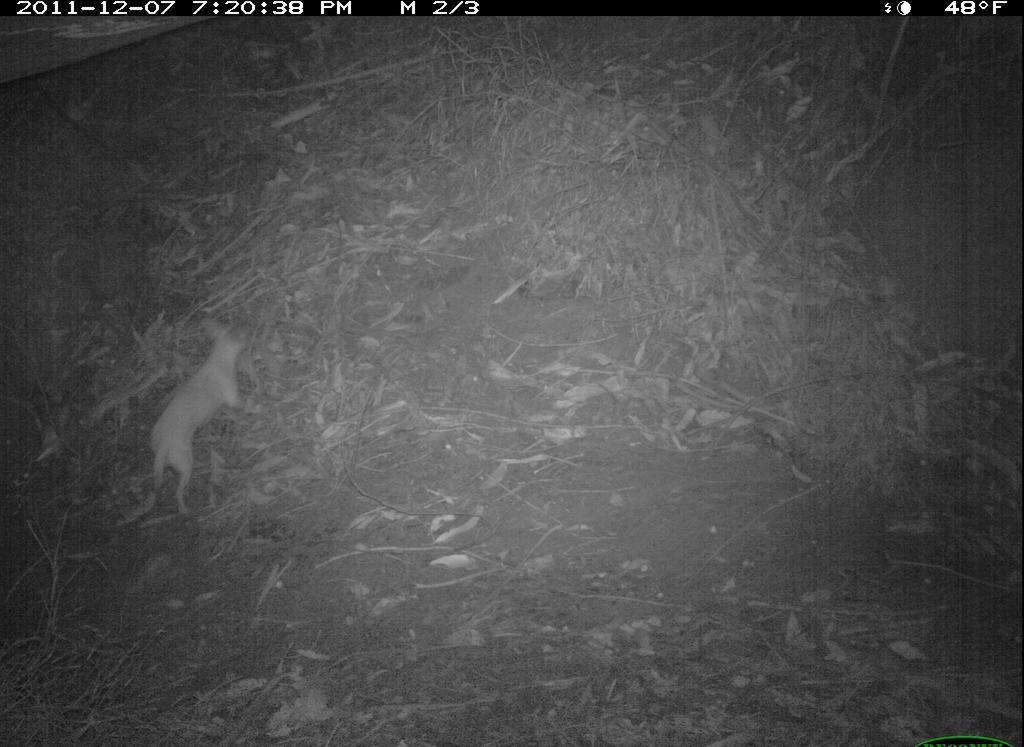dog: (136, 300, 271, 518)
